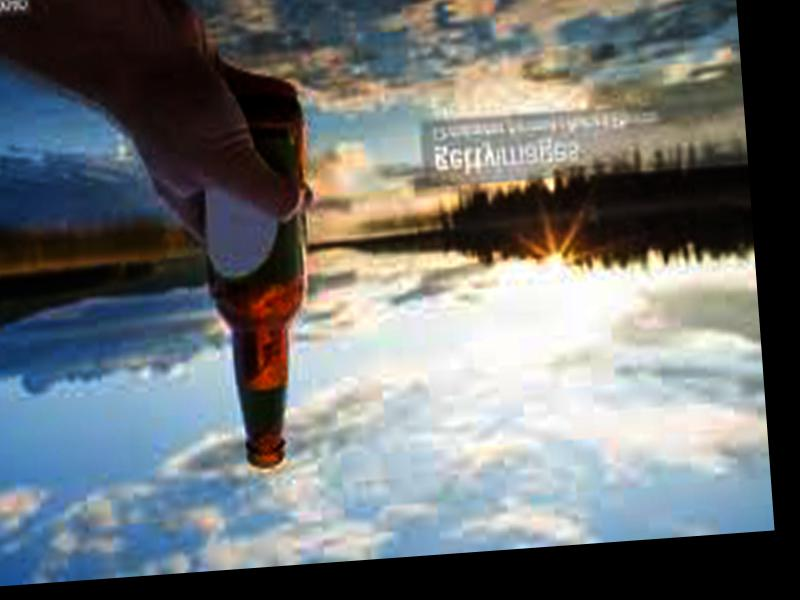Beer: (193, 96, 332, 474)
